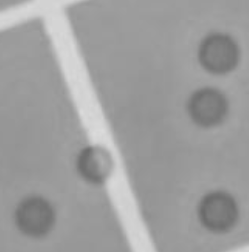cell: (193, 185, 243, 236), (8, 191, 60, 240), (71, 138, 120, 188), (194, 28, 243, 78), (184, 81, 232, 130)
